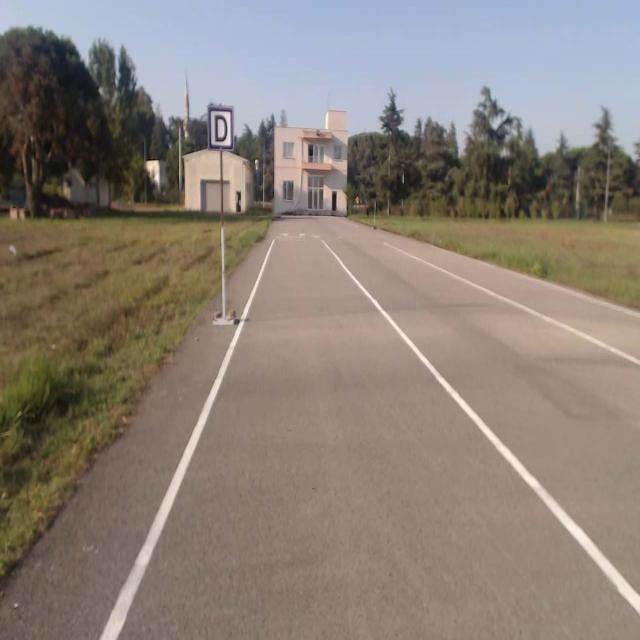durak: (209, 105, 233, 148)
